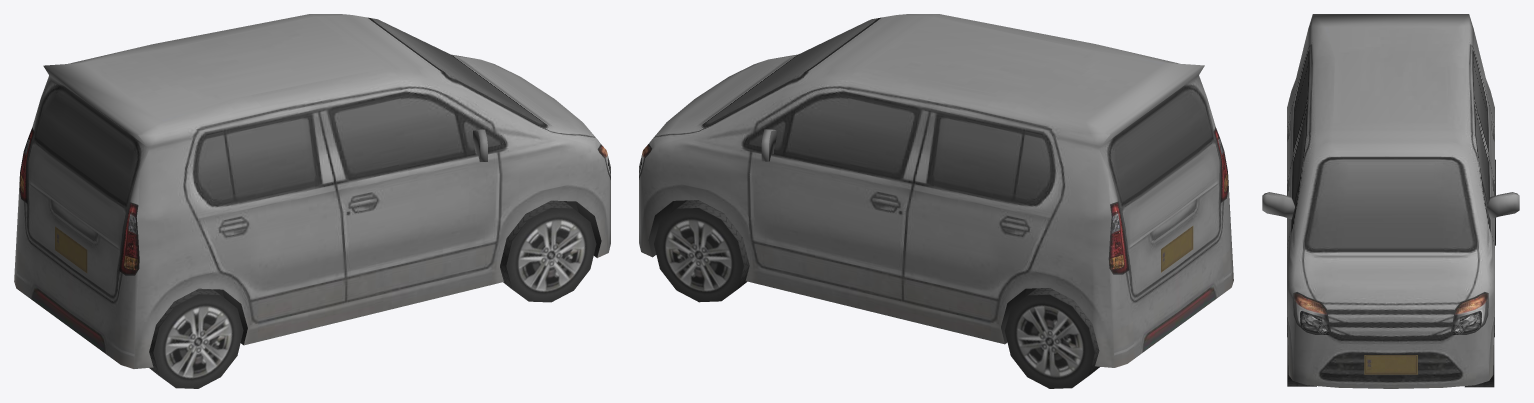
The model's file is sf_hatchback_02.glb.
The picture shows the model from 3 angles, left to right: view 1: azimuth 30°, elevation 25°; view 2: azimuth 150°, elevation 25°; view 3: azimuth 270°, elevation 25°; orthographic projection. The views are drawn at different scales.
Parts seen in each view (by area): view 1: Traffic_Hatchback_02_Body, Traffic_Hatchback_02_Wheel_Front_R_Traffic_Vehicle_Wheels_01, Traffic_Hatchback_02_Wheel_Back_R_Traffic_Vehicle_Wheels_01_, Traffic_Hatchback_02_Light_Break_Traffic_Vehicle_01_Light_1_; view 2: Traffic_Hatchback_02_Body, Traffic_Hatchback_02_Wheel_Front_L_Traffic_Vehicle_Wheels_01, Traffic_Hatchback_02_Wheel_Back_L_Traffic_Vehicle_Wheels_01_, Traffic_Hatchback_02_Light_Break_Traffic_Vehicle_01_Light_1_; view 3: Traffic_Hatchback_02_Body, Traffic_Hatchback_02_Light, Traffic_Hatchback_02_Light_Turn_L, Traffic_Hatchback_02_Light_Turn_R, Traffic_Hatchback_02_Wheel_Front_L_Traffic_Vehicle_Wheels_01.
Part boxes in pixels (<box>): Traffic_Hatchback_02_Body: <box>14,14,610,368</box>; Traffic_Hatchback_02_Wheel_Front_R_Traffic_Vehicle_Wheels_01: <box>500,200,596,302</box>; Traffic_Hatchback_02_Wheel_Back_R_Traffic_Vehicle_Wheels_01_: <box>149,288,243,388</box>; Traffic_Hatchback_02_Light_Break_Traffic_Vehicle_01_Light_1_: <box>19,127,139,275</box>; Traffic_Hatchback_02_Body: <box>639,14,1233,367</box>; Traffic_Hatchback_02_Wheel_Front_L_Traffic_Vehicle_Wheels_01: <box>654,200,749,302</box>; Traffic_Hatchback_02_Wheel_Back_L_Traffic_Vehicle_Wheels_01_: <box>1004,288,1099,388</box>; Traffic_Hatchback_02_Light_Break_Traffic_Vehicle_01_Light_1_: <box>1108,127,1228,274</box>; Traffic_Hatchback_02_Body: <box>1262,14,1519,388</box>; Traffic_Hatchback_02_Light: <box>1293,293,1488,334</box>; Traffic_Hatchback_02_Light_Turn_L: <box>1454,292,1488,314</box>; Traffic_Hatchback_02_Light_Turn_R: <box>1293,292,1327,314</box>; Traffic_Hatchback_02_Wheel_Front_L_Traffic_Vehicle_Wheels_01: <box>1464,333,1494,387</box>.
Bounding box in the file's own units: 3.52 × 1.7 × 1.9.
3 materials, 3 textured.
